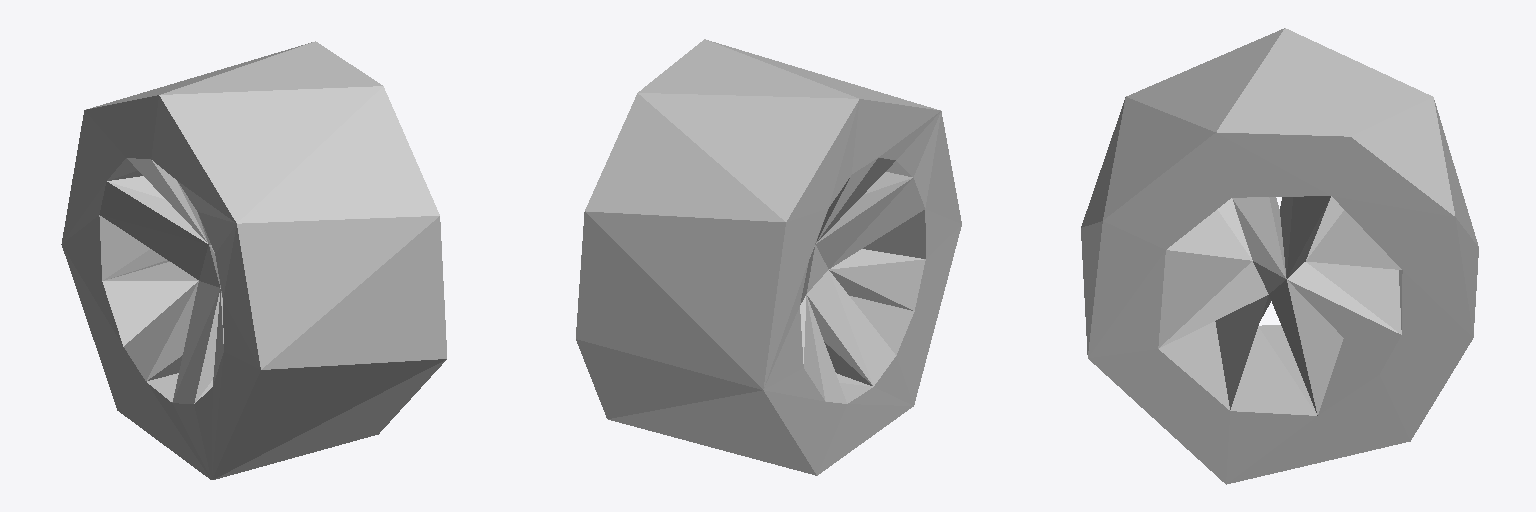
The model's file is bug_car_rear_wheel.obj.
The picture shows the model from 3 angles: view 1: azimuth 30°, elevation 25°; view 2: azimuth 150°, elevation 25°; view 3: azimuth 270°, elevation 25°; orthographic projection.
Visible parts, largest first — view 1: Cylinder.005; view 2: Cylinder.005; view 3: Cylinder.005.
Boxes of the visible parts, x1=… form: Cylinder.005: x1=61, y1=41, x2=446, y2=479; Cylinder.005: x1=576, y1=39, x2=961, y2=475; Cylinder.005: x1=1081, y1=28, x2=1478, y2=484.
Size of the model in its own units: 0.5445 by 0.9837 by 0.9753.